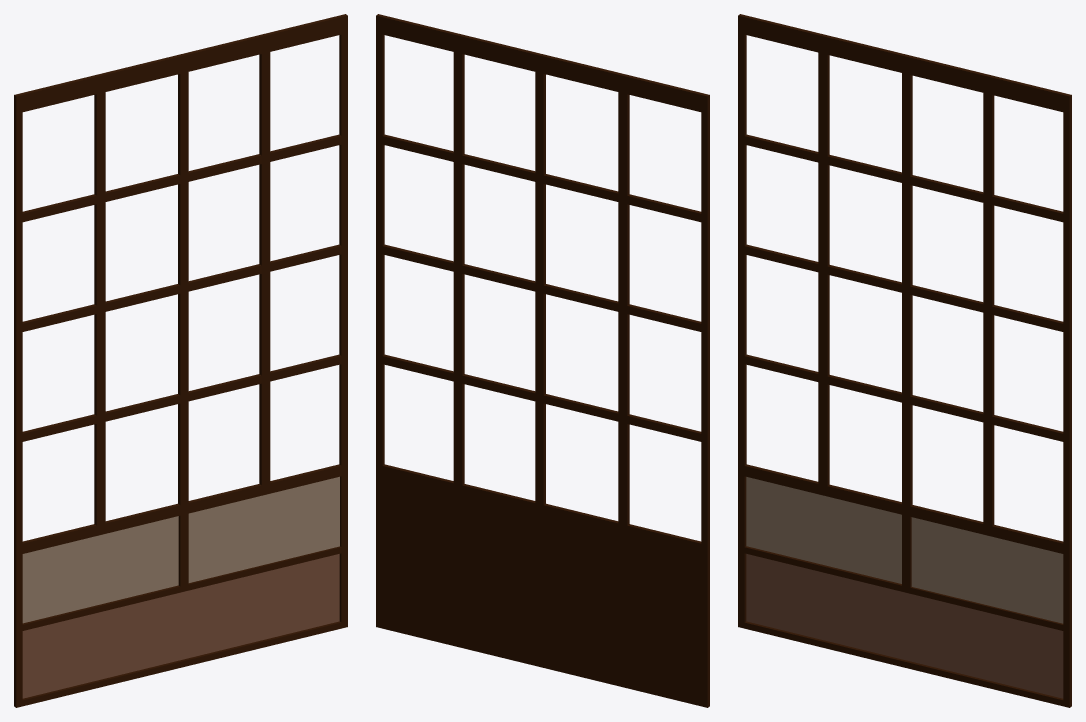
File: ventana4.fbx
The picture shows the model from 3 angles, left to right: view 1: azimuth 30°, elevation 25°; view 2: azimuth 150°, elevation 25°; view 3: azimuth 330°, elevation 25°; orthographic projection.
Parts seen in each view (by area): view 1: Cube.010; view 2: Cube.010; view 3: Cube.010.
Boxes of the visible parts, <box> form: Cube.010: <box>14,14,347,707</box>; Cube.010: <box>376,14,709,707</box>; Cube.010: <box>738,14,1071,707</box>.
Size of the model in its own units: 2892 by 5096 by 32.14.
